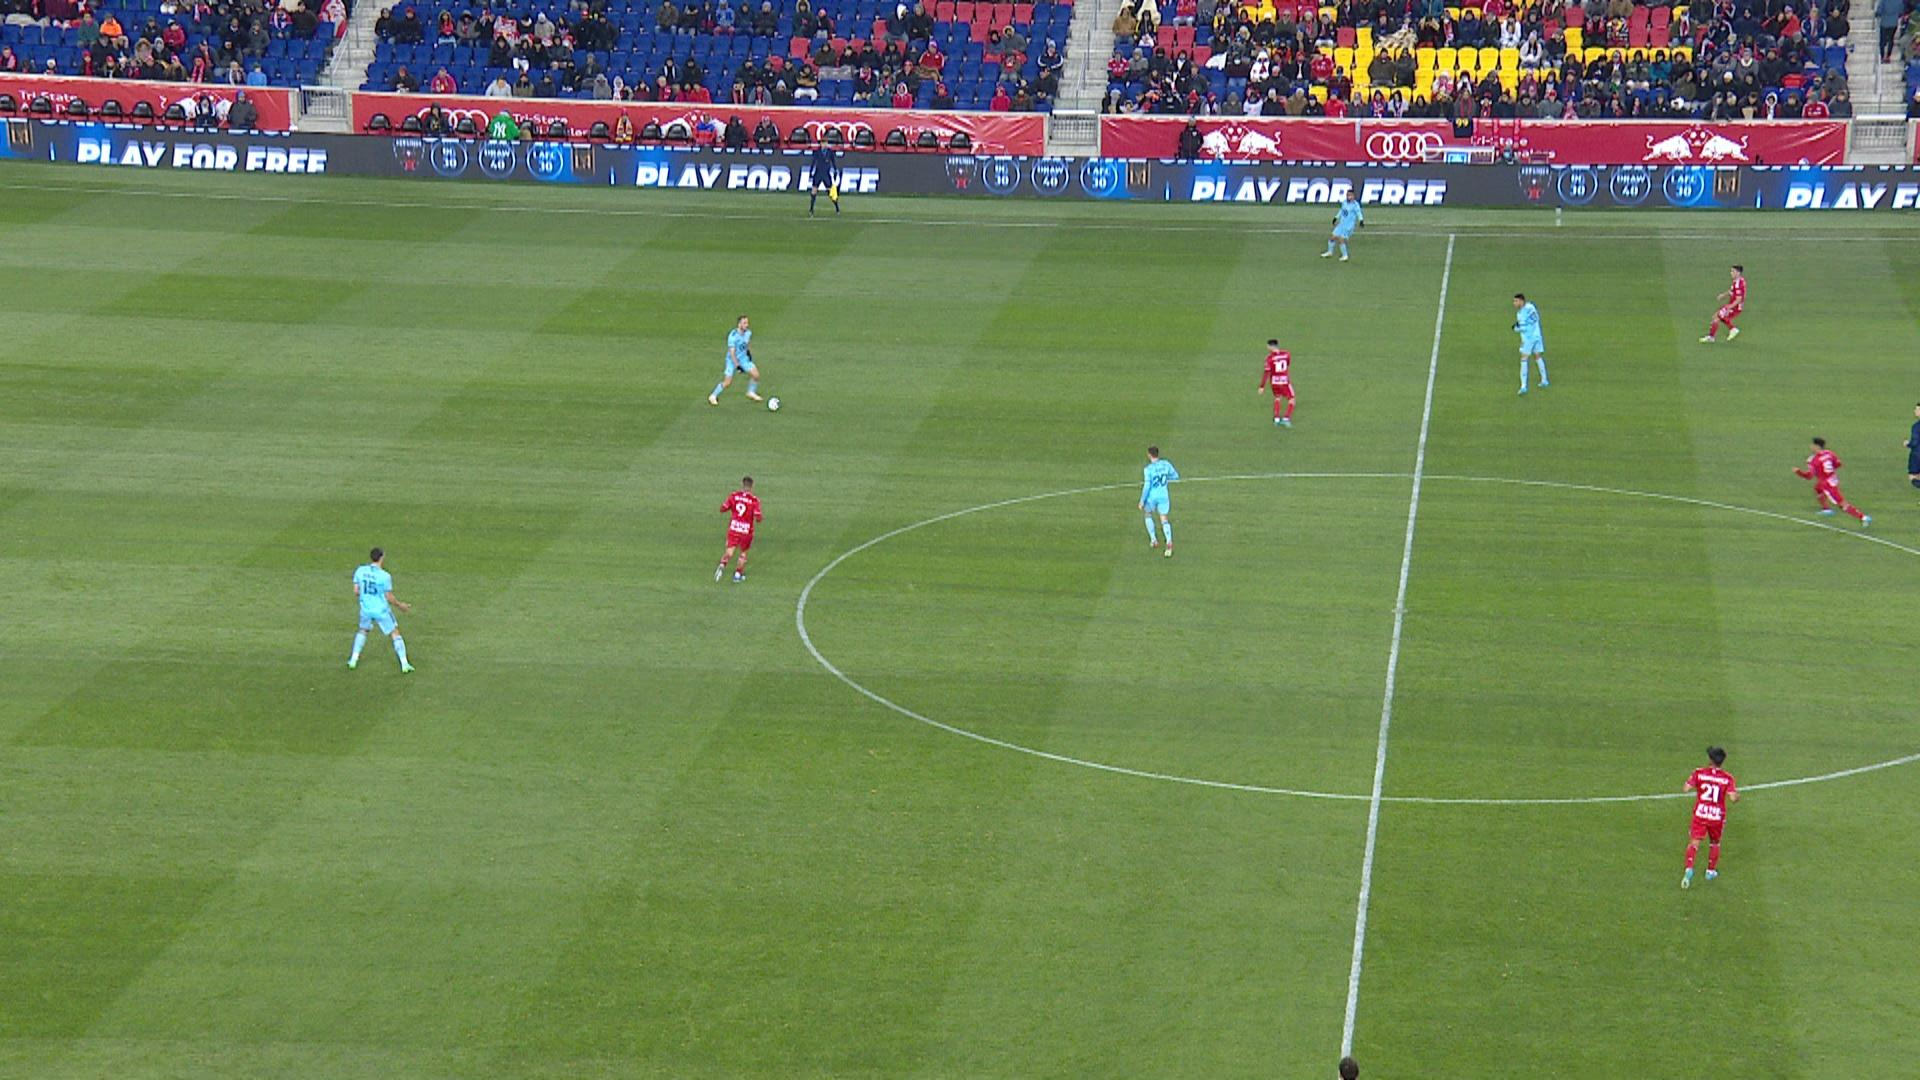football: (766, 397, 782, 411)
